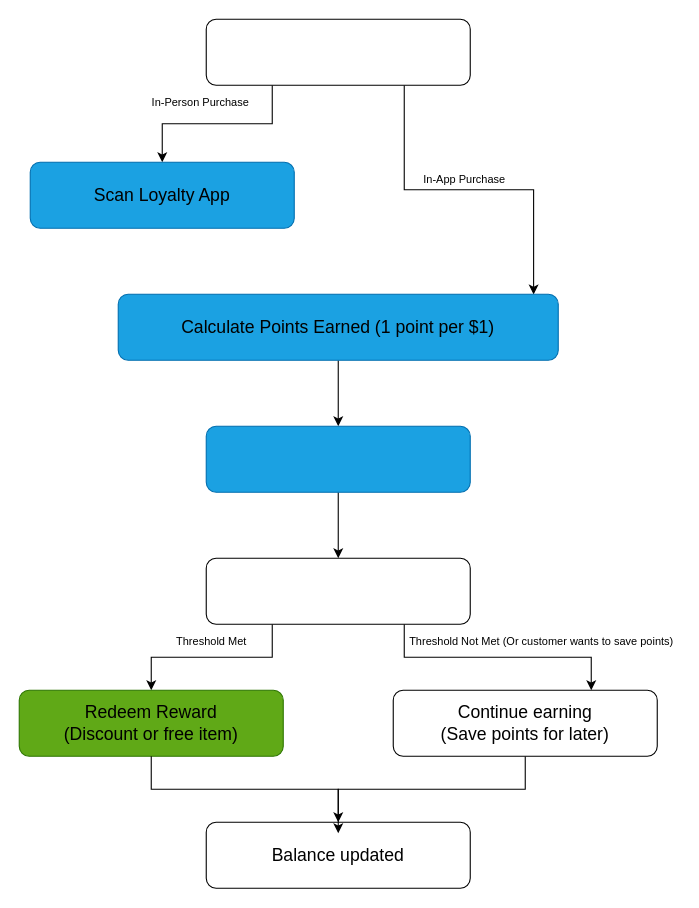
Image size: 699x908. Some labels were removed from this diagram. Here are the shapes that lost their labels. From the top down, the centre of each, then its label:
point 337,51: Purchase Completed
point 337,458: Update Points Balance
point 337,590: Check Reward Threshold
